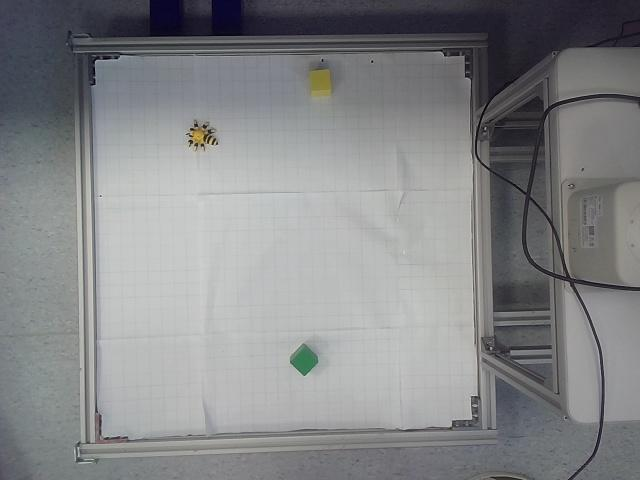frelon: (185, 119, 218, 152)
